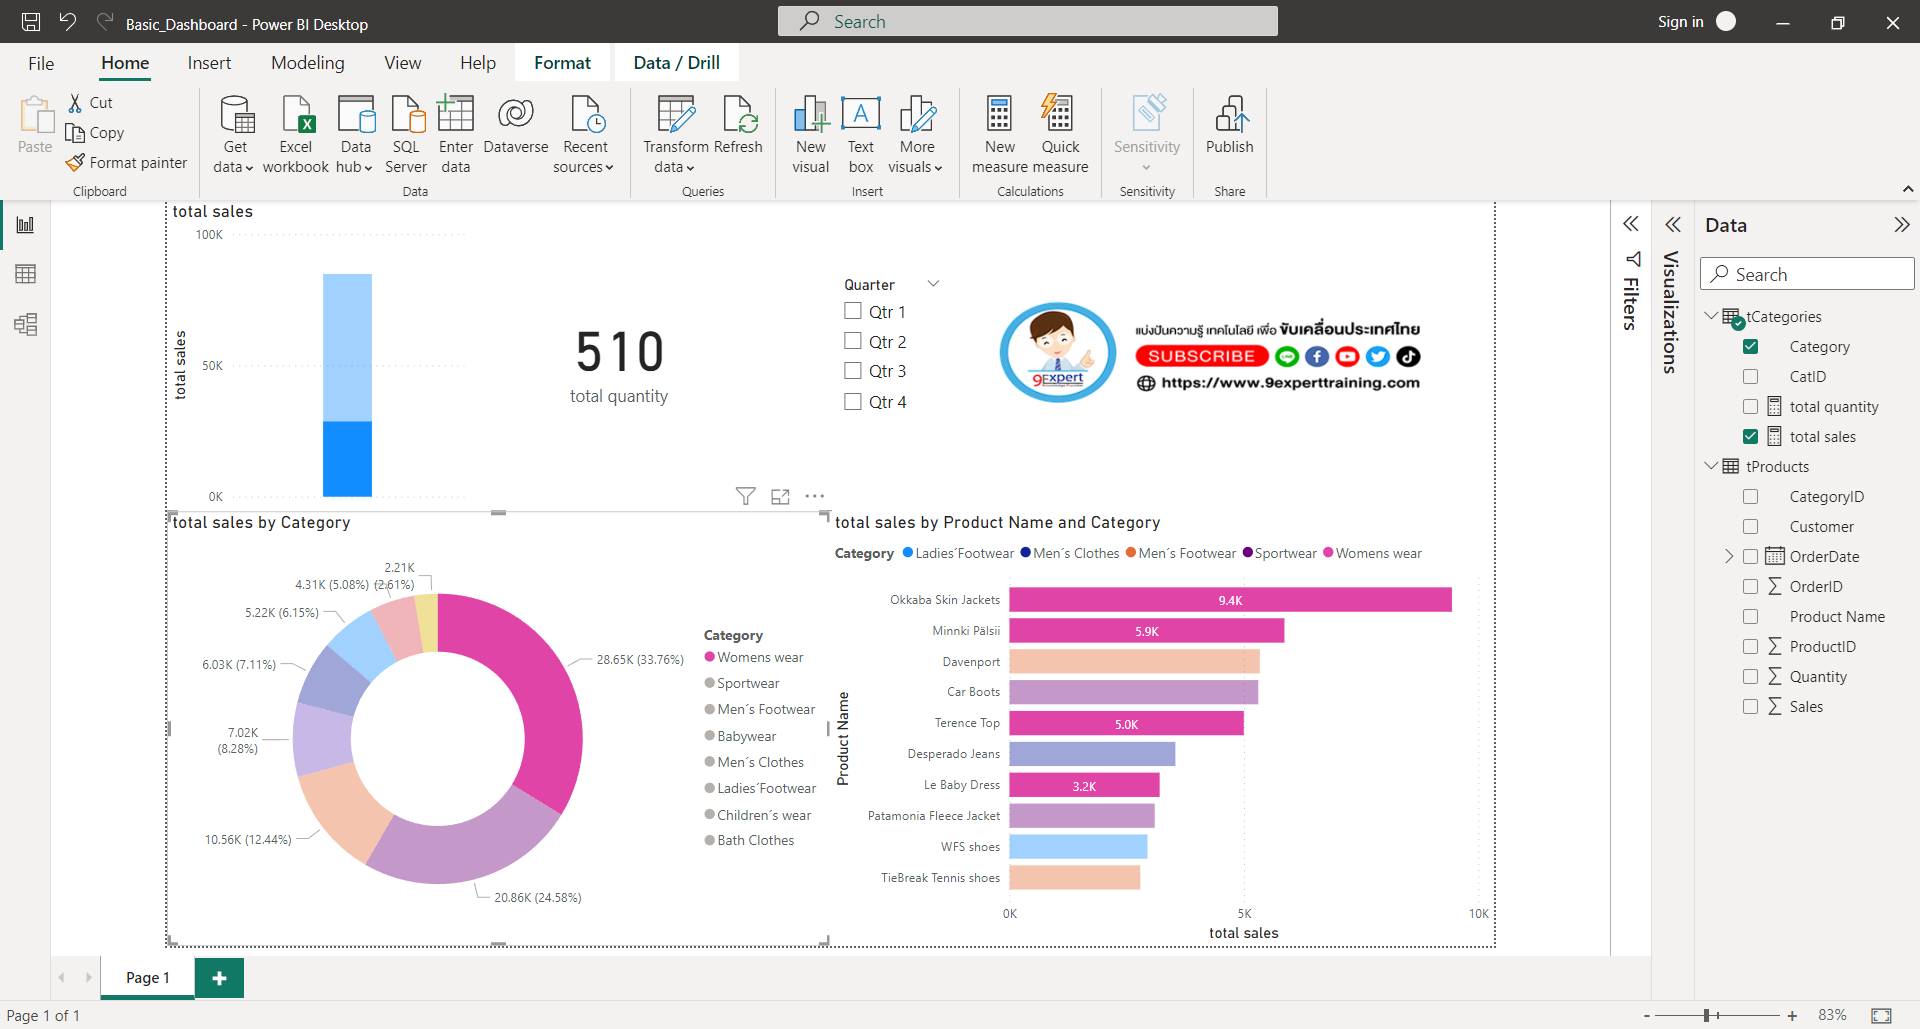

This screenshot's page, from the dashboard's own definition file:
{"tool":"powerbi","page":{"name":"Page 1","canvas":[1280,720],"ordinal":0},"visuals":[{"type":"columnChart","fields":{"Y":["tCategories.total sales"]},"box":[0,0,291.9,300.3],"z":0},{"type":"card","fields":{"Values":["tCategories.total quantity"]},"box":[291.9,0,288.2,300.3],"z":1000},{"type":"donutChart","fields":{"Y":["tCategories.total sales"],"Category":["tCategories.Category"]},"box":[0,300.5,640.8,419.9],"z":2000},{"type":"slicer","fields":{"Values":["tProducts.OrderDate.Variation.Date Hierarchy.Quarter"]},"box":[640.8,68.6,118,168.8],"z":3000},{"type":"barChart","fields":{"Category":["tProducts.Product Name"],"Y":["tCategories.total sales"],"Series":["tCategories.Category"]},"box":[639.5,300.5,640.8,419.9],"z":4000},{"type":"image","box":[759,69,521,169],"z":5000}]}

Visuals, with their boxes on the page's 1280x720 design canvas (x1, y1, x2, y2). These are canvas units, not pixel positions in the 1920x1029 screenshot, which may show the page scaled, cropped or inside an application window:
columnChart - tCategories.total sales: l=0, t=0, r=292, b=300
card - tCategories.total quantity: l=292, t=0, r=580, b=300
donutChart - tCategories.total sales x tCategories.Category: l=0, t=300, r=641, b=720
slicer - tProducts.OrderDate.Variation.Date Hierarchy.Quarter: l=641, t=69, r=759, b=237
barChart - tProducts.Product Name x tCategories.total sales: l=640, t=300, r=1280, b=720
image: l=759, t=69, r=1280, b=238
